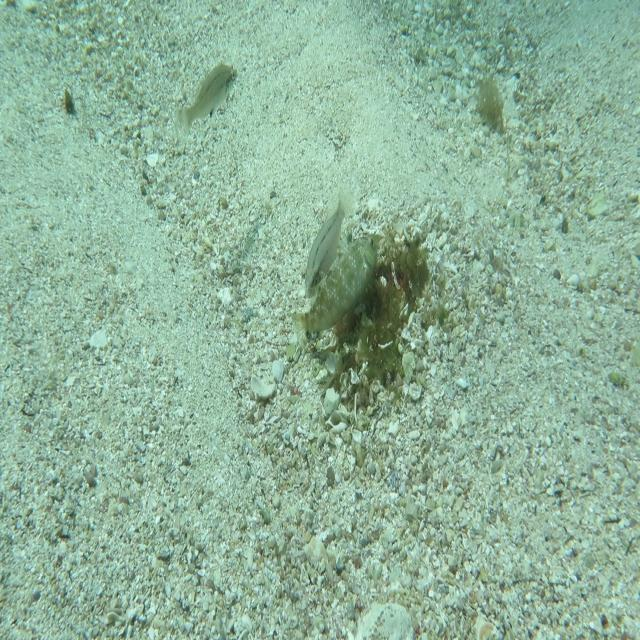BEND: (290, 222, 381, 353)
female: (303, 181, 357, 300), (173, 60, 240, 146)
nest: (320, 210, 456, 430)
